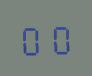zero: (19, 20, 45, 56), (46, 19, 72, 55)
